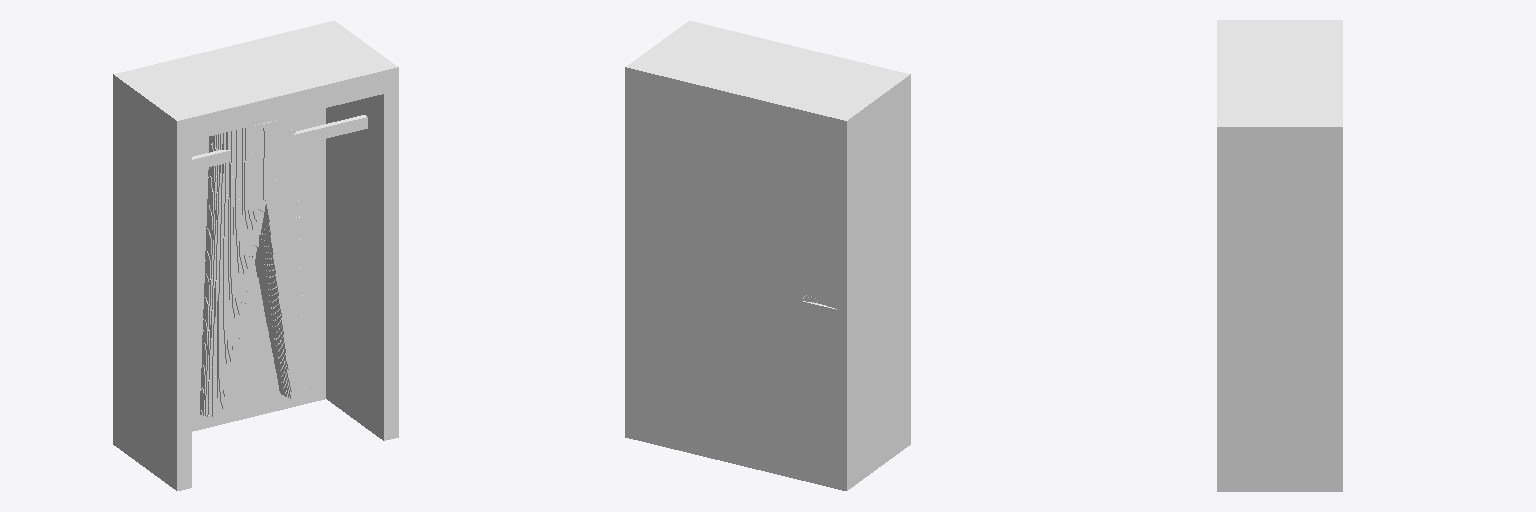
The robot description file, URDF, robot "test_jean":
<?xml version="1.0" encoding="utf-8"?>
<!-- This URDF was automatically created by SolidWorks to URDF Exporter! Originally created by [author] ([email redacted]) 
     Commit Version: 1.5.1-0-g916b5db  Build Version: 1.5.7152.31018
     For more information, please see http://wiki.ros.org/sw_urdf_exporter -->

<robot name="test_jean">
 <!-- a "link" is the part that we are creating. All the internal tags describe this part. -->
  <link name="world"/>

  <!--Cabin of jean-->
  <link name="cabin"> 
    <!--Inertial Frame -->
    <inertial>
      <origin xyz="0 0 0 " rpy="0 0 0" />
      <mass value="35.9737389131107" />
      <!--inertia matrix-->
      <inertia
        ixx="0.29221929557845"
        ixy="9.66146955461936E-18"
        ixz="3.80862716992568E-17"
        iyy="1.80051664011352"
        iyz="1.85395944369694E-17"
        izz="1.85206692955711" />
    </inertial>

    <!--The visual allows to specify the shape of the object -->
    <visual>
      <origin
        xyz="0 0 0"
        rpy="0 0 0" />
        <geometry>
          <mesh filename="package://ur_description/meshes/cabin.dae" scale="15 30 20"/>
        </geometry>
        <material name="White">
          <color rgba="1.0 1.0 1.0 1.0"/>
      </material>
    </visual>
    
    <!--A collision describes an event where 2 bodies or more exerce a force on each other in relatively a short time-->
    <collision>
      <origin
        xyz="0 0 0"
        rpy="0 0 0" />
      <geometry>
        <mesh filename="package://ur_description/meshes/cabin.stl"  />
      </geometry>
     <material name="White">
          <color rgba="1.0 1.0 1.0 1.0"/>
      </material>
    </collision>

  </link>
  

  

<!-- A joint allows us to create a relationship between two links-->

  <joint  name="world_link"  type="fixed">
    <origin  xyz="0.5 0.5 0"  rpy="-1.570796327 3.141592654 -4.71238898" />
    <parent link="world" />
    <child  link="cabin" />
  </joint>
 <!-- <gazebo reference ="jean">
    <material>Gazebo/Grey</material>
  </gazebo>-->
  <gazebo reference ="cabin">
    
    <material>Gazebo\White</material>
  </gazebo>
</robot>

--- Facts derived from the render (not from the file) ---
Views: 3 orthographic renders of the robot side by side, from view 1: azimuth 30°, elevation 25°; view 2: azimuth 150°, elevation 25°; view 3: azimuth 270°, elevation 25°.
Model test_jean with 2 links and 1 joints (1 fixed), rooted at world, posed all joints at 0.
Visible links, largest first — view 1: cabin; view 2: cabin; view 3: cabin.
Link boxes in pixels (x1,y1,x2,y2): cabin: [113, 21, 398, 490]; cabin: [625, 21, 910, 490]; cabin: [1217, 20, 1342, 491].
Size in the robot's own frame: 1.2 by 0.6 by 1.92 metres.
1 mesh visuals loaded from 1 distinct referenced files (1 Collada DAE).
